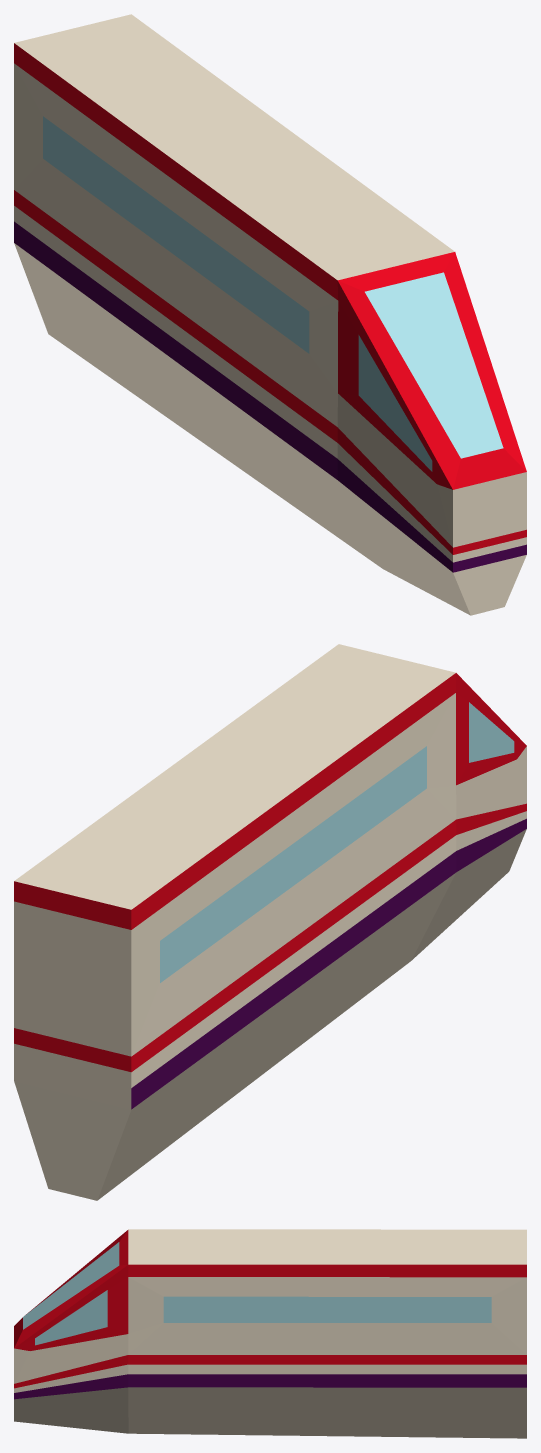
Rendered from locomotora.glb.
The picture shows the model from 3 angles, top to bottom: view 1: azimuth 30°, elevation 25°; view 2: azimuth 150°, elevation 25°; view 3: azimuth 270°, elevation 25°; orthographic projection. The views are drawn at different scales.
Parts seen in each view (by area): view 1: locomotora; view 2: locomotora; view 3: locomotora.
Boxes of the visible parts, x1=… form: locomotora: x1=14, y1=14, x2=526, y2=615; locomotora: x1=14, y1=644, x2=526, y2=1200; locomotora: x1=14, y1=1229, x2=526, y2=1438.
Size of the model in its own units: 4.22 by 10.21 by 25.78.
